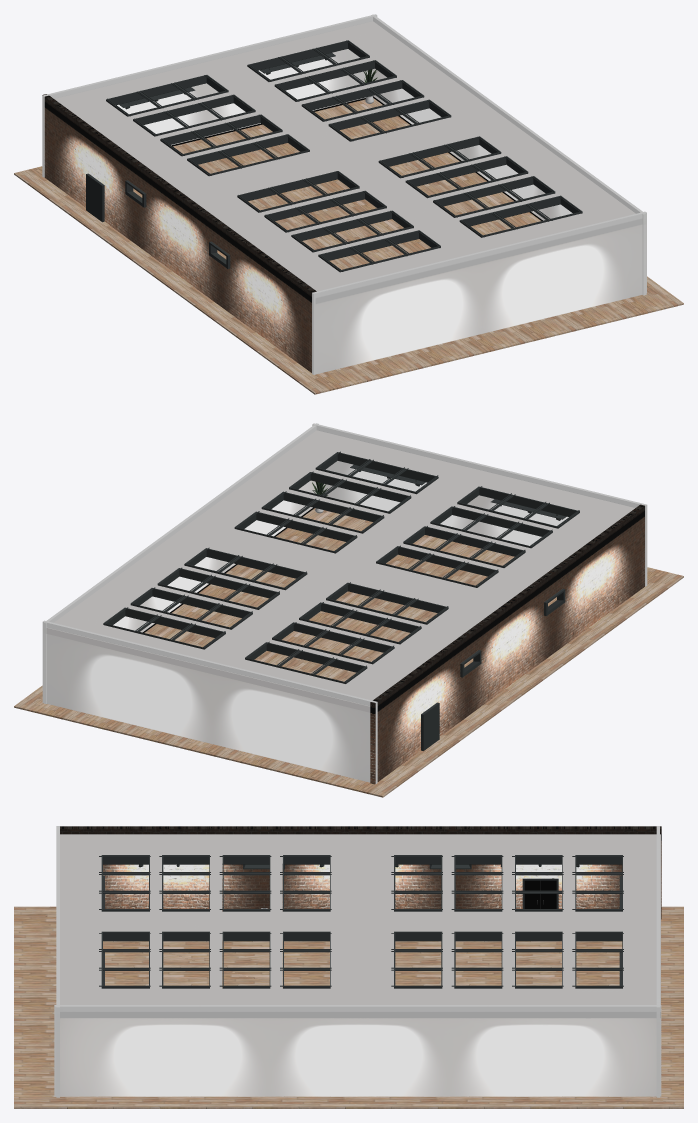
Rendered from artgallery_5.glb.
3 views of the same model, one above another, from view 1: azimuth 30°, elevation 25°; view 2: azimuth 150°, elevation 25°; view 3: azimuth 270°, elevation 25° (orthographic). The views are drawn at different scales.
Parts seen in each view (by area): view 1: Ceiling, Plane.001, Plane.012, Plane.003, Cube.004, Cube.001, Cube.002, Cube.003, Door trim; view 2: Ceiling, Plane.001, Plane.003, Plane.012, Cube.003, Cube.001, Cube.002, Cube.004, Door trim; view 3: Ceiling, Plane.001, Plane.012, Plane.003, Cube.003, Cube.004, Cube.001, Cube.002, Cube.
Part boxes in pixels (x1,y1,x2,y2): Ceiling: (54,21,635,291); Plane.001: (42,14,646,374); Plane.012: (14,98,683,394); Plane.003: (42,94,316,372); Cube.004: (378,136,582,237); Cube.001: (106,75,309,176); Cube.002: (237,171,440,272); Cube.003: (247,40,451,141); Door trim: (86,173,104,222); Ceiling: (46,430,634,712); Plane.001: (42,423,647,783); Plane.003: (370,504,644,784); Plane.012: (14,508,683,797); Cube.003: (103,547,307,649); Cube.001: (245,582,448,683); Cube.002: (376,486,579,587); Cube.004: (234,451,438,553); Door trim: (421,702,439,750); Ceiling: (60,834,660,1004); Plane.001: (54,826,661,1097); Plane.012: (14,906,683,1108); Plane.003: (60,826,661,919); Cube.003: (391,931,623,988); Cube.004: (99,931,331,988); Cube.001: (391,855,623,911); Cube.002: (99,855,331,911); Cube: (524,880,556,908).
Bounding box in the file's own units: 27.53 × 6.49 × 38.85.
Materials: 17 (6 with a texture image).
